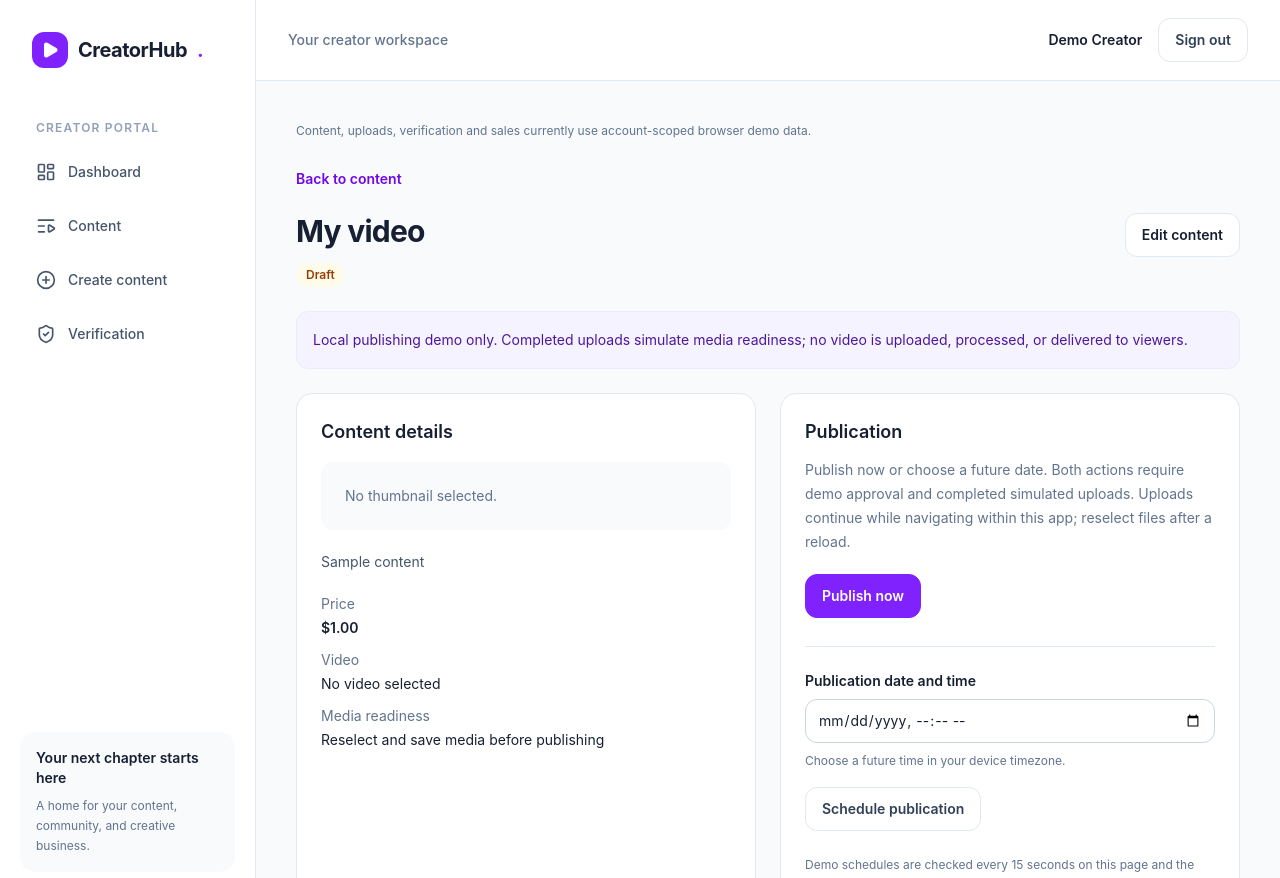
it: publication experience › blocks an unverified publishing attempt and allows keeping the draft
The image size is (1280, 878).
Click the button "Publish now": (863, 596) 805,574 -> 921,618
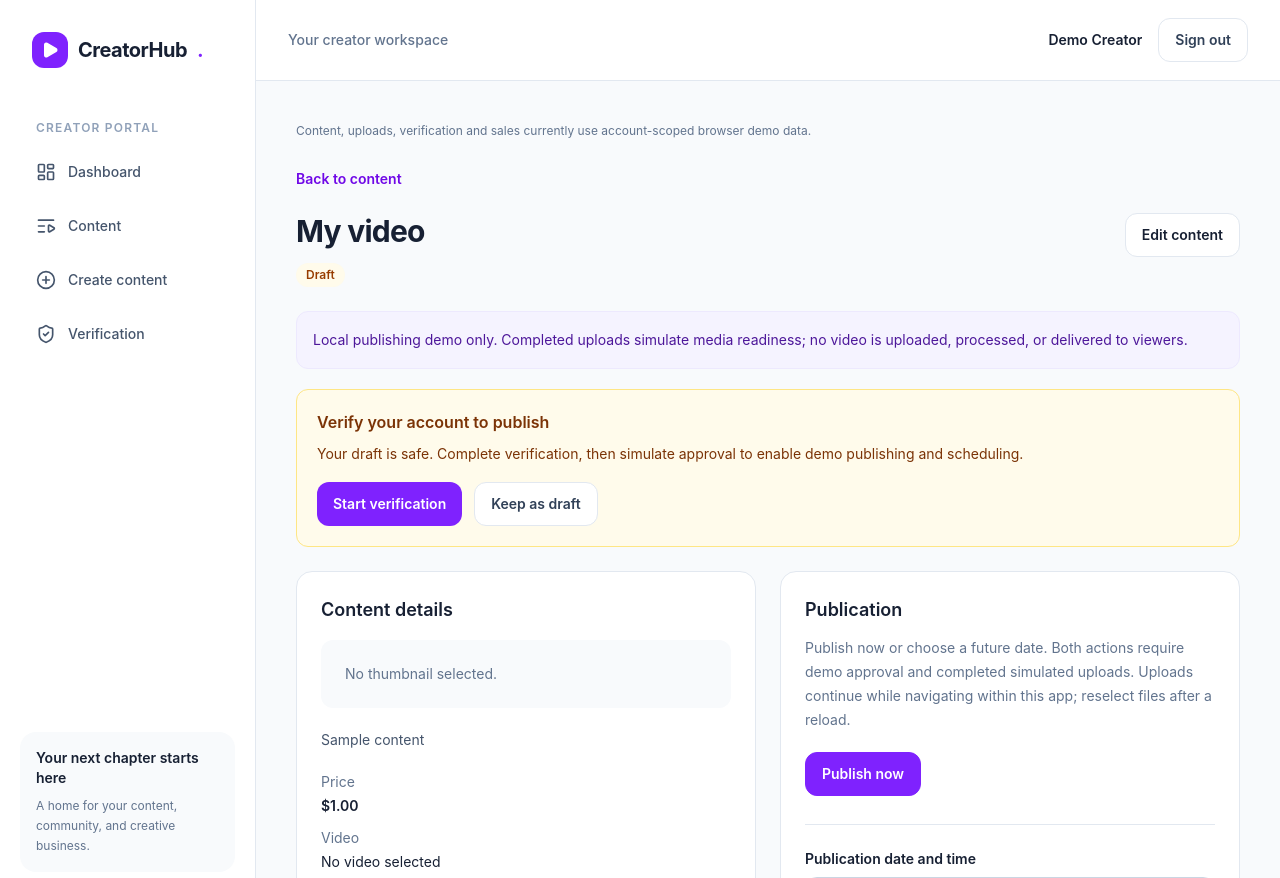
Expected: the link "Start verification" is shown, 317,482 -> 462,526
Click the button "Keep as draft": (536, 504) 474,482 -> 598,526
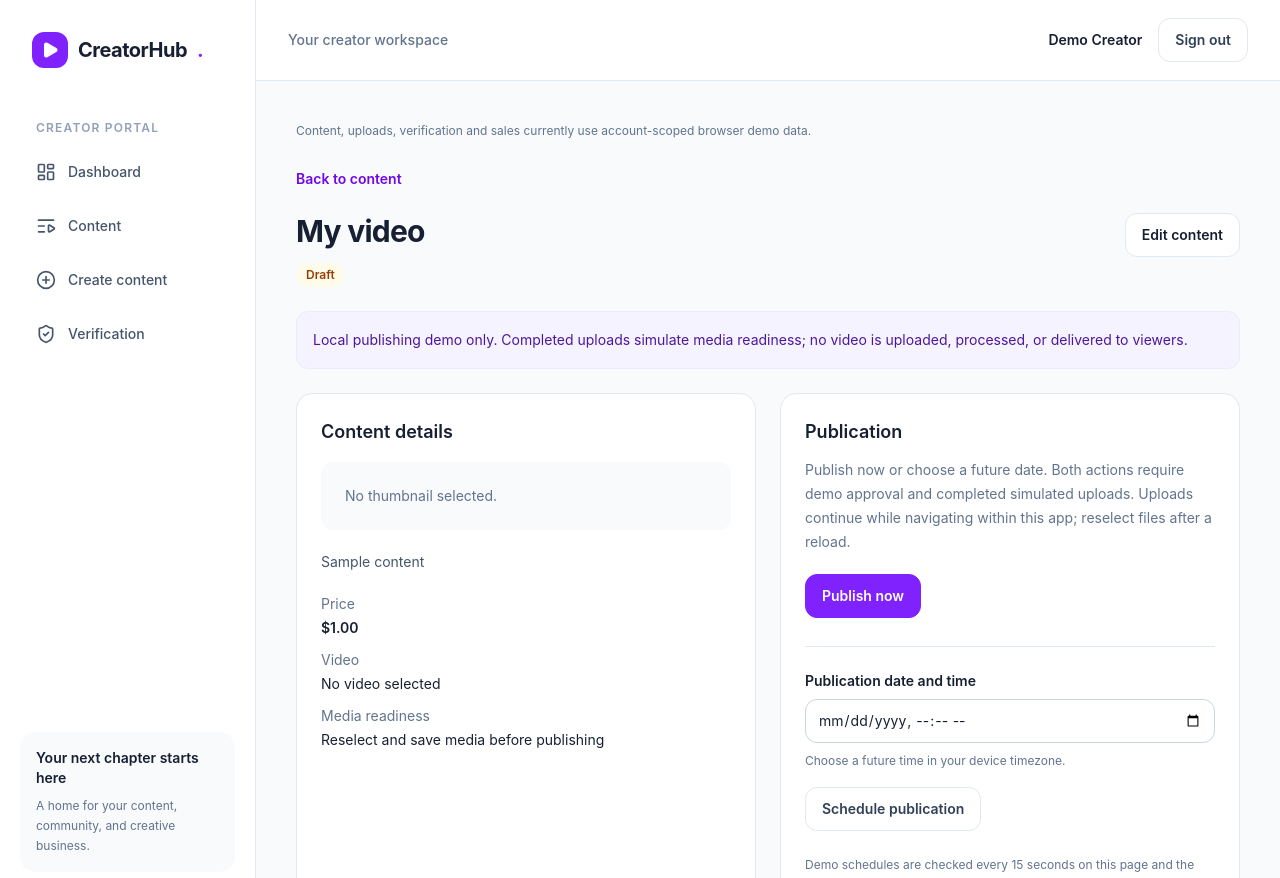
Expected: the link "Start verification" is gone
